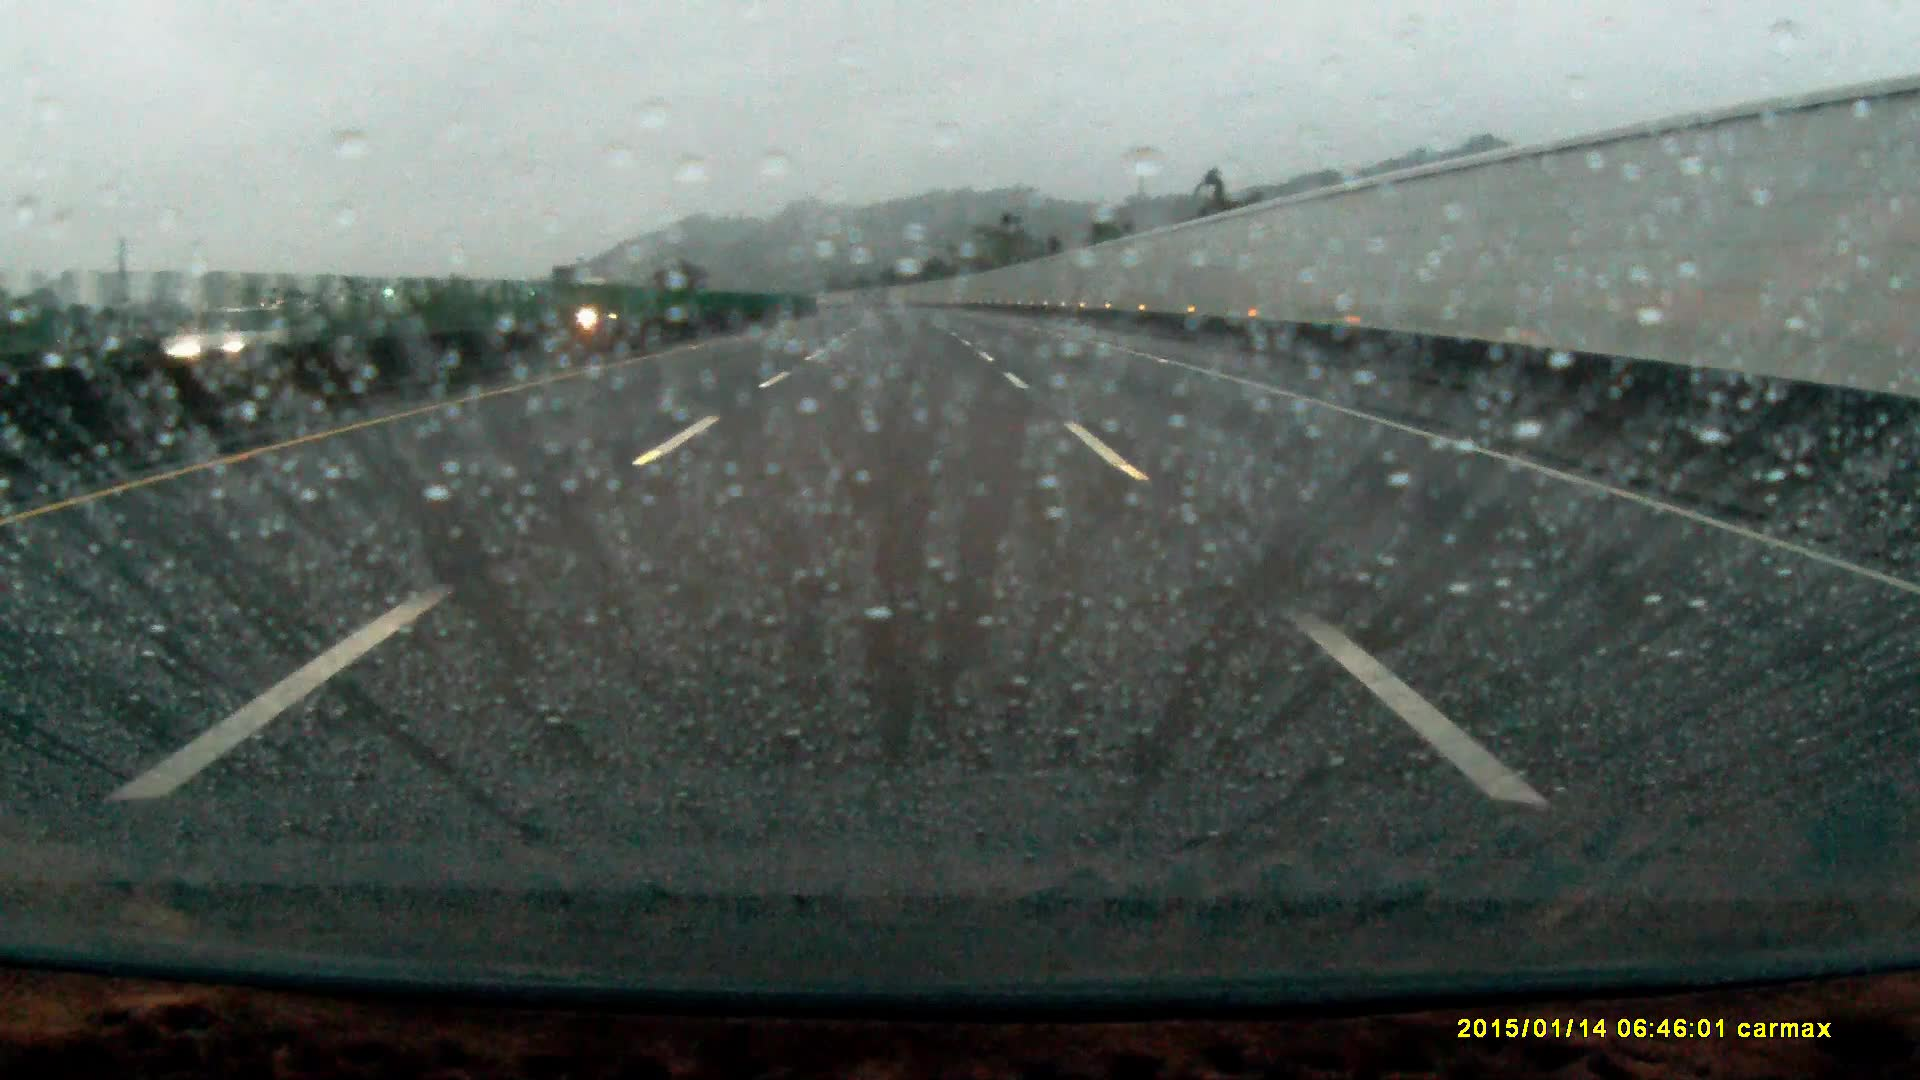vehicle: (152, 303, 327, 382), (570, 299, 644, 332)
